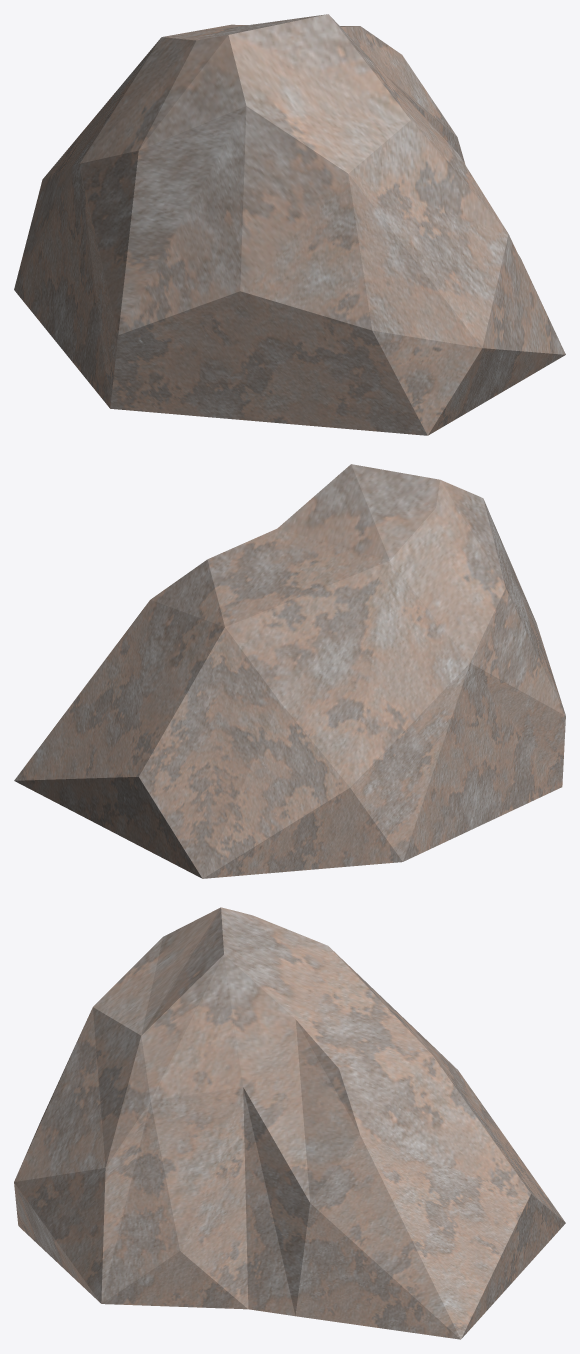
The model's file is stone5.fbx.
The picture shows the model from 3 angles, top to bottom: view 1: azimuth 30°, elevation 25°; view 2: azimuth 150°, elevation 25°; view 3: azimuth 270°, elevation 25°; orthographic projection. The views are drawn at different scales.
Parts seen in each view (by area): view 1: Group58984; view 2: Group58984; view 3: Group58984.
Part boxes in pixels (left/top/right/bottom): Group58984: left=14, top=14, right=565, bottom=435; Group58984: left=14, top=464, right=565, bottom=878; Group58984: left=14, top=907, right=565, bottom=1339.
Size of the model in its own units: 186 by 123 by 215.
